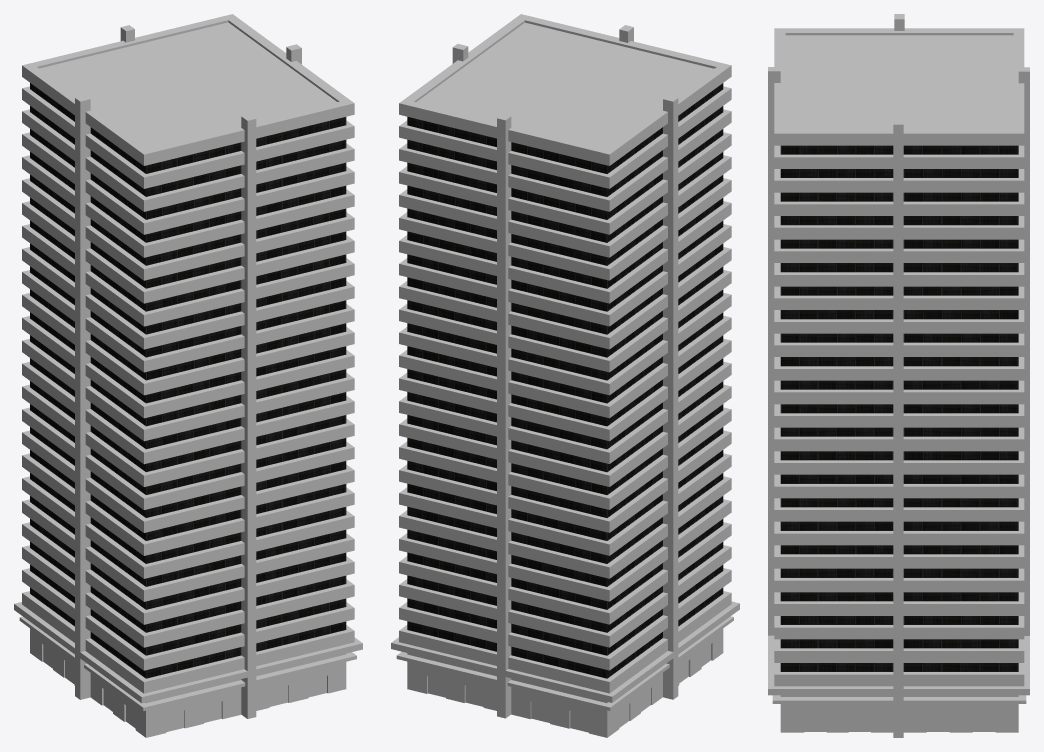
3 renders of one model, left to right at view 1: azimuth 30°, elevation 25°; view 2: azimuth 150°, elevation 25°; view 3: azimuth 270°, elevation 25°, orthographic. The views are drawn at different scales.
Parts seen in each view (by area): view 1: BC-079; view 2: BC-079; view 3: BC-079.
Part boxes in pixels (left/top/right/bottom): BC-079: left=14, top=14, right=362, bottom=737; BC-079: left=391, top=14, right=739, bottom=737; BC-079: left=768, top=14, right=1029, bottom=737.
Size of what is drawn, in the model's own units: 33.35 by 86.21 by 33.35.
